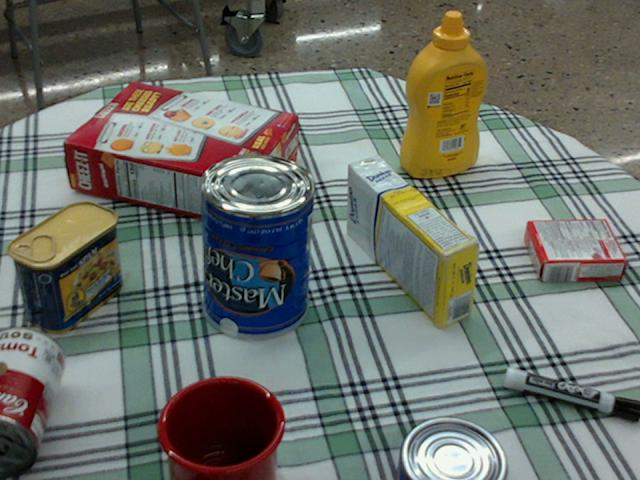cracker_box: (64, 83, 295, 225)
gelatin_box: (523, 220, 625, 282)
large_marker: (504, 367, 639, 421)
master_chef_can: (198, 153, 313, 339)
mug: (151, 375, 280, 479)
mustard_bottle: (398, 11, 486, 176)
potted_meat_can: (8, 201, 120, 333)
sugar_box: (345, 157, 479, 327)
tomato_soup_can: (0, 326, 64, 476)
tuna_fish_can: (395, 419, 506, 479)
